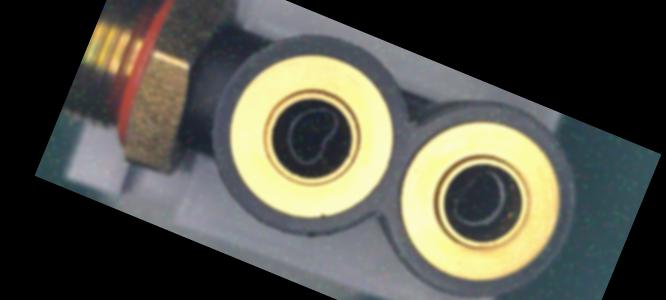off-centered: (436, 155, 518, 246), (270, 93, 350, 179)
